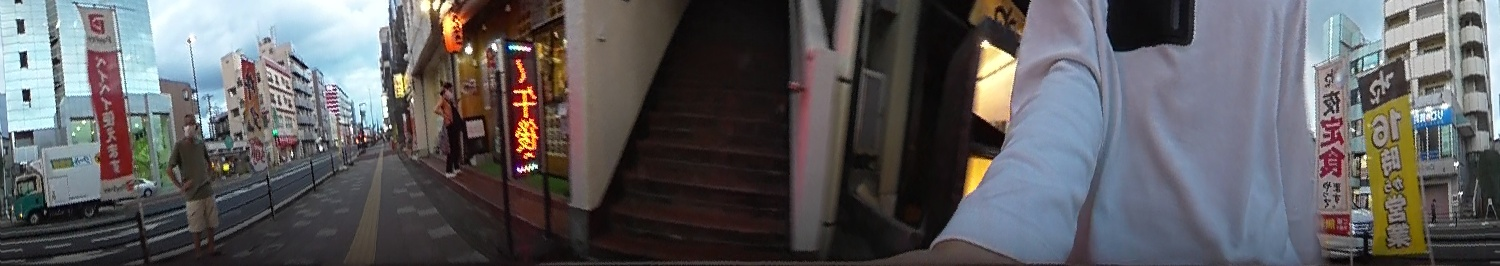difficult_person: (1427, 197, 1438, 223)
person: (161, 110, 223, 255), (433, 80, 467, 180)
